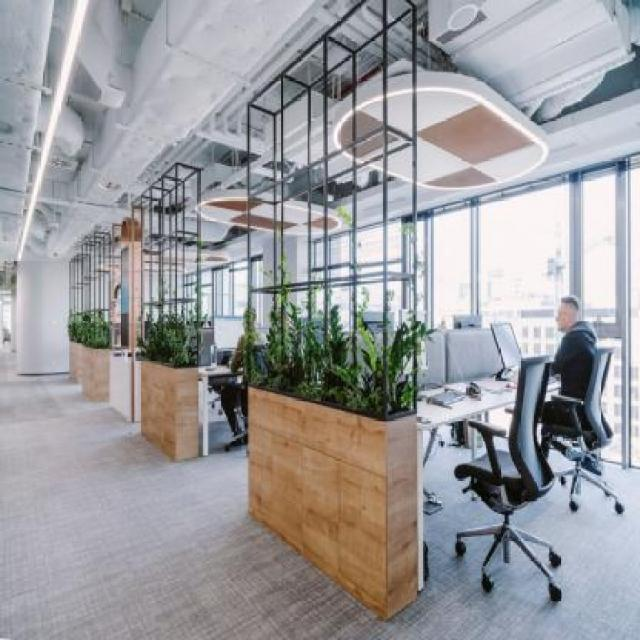Floor: (1, 349, 640, 639), (548, 452, 576, 473)
